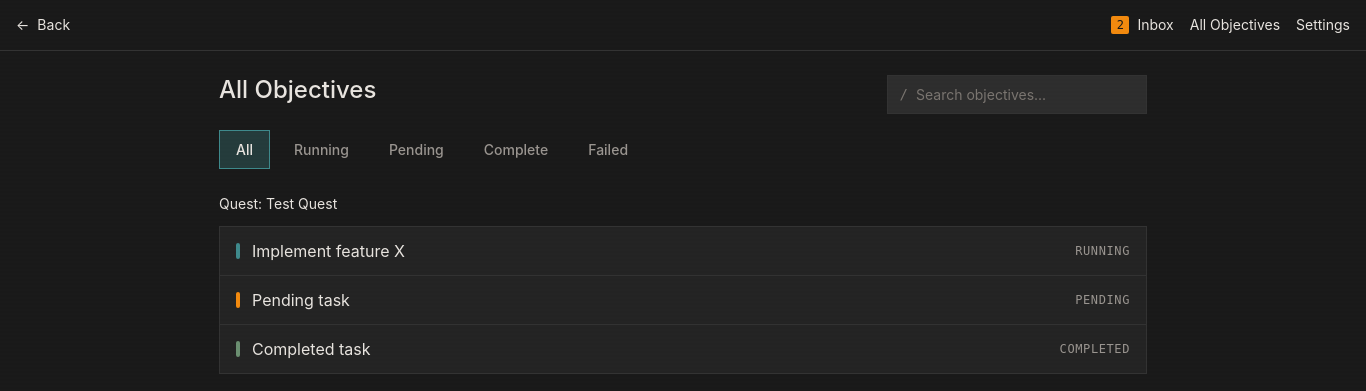
AllObjectives › filtering › shows empty state when filter has no matches
Expected: the text "Implement feature X" is shown, 252,241 -> 405,261
Click the button "Failed" at coordinates (608, 150), box 572,130 -> 644,169
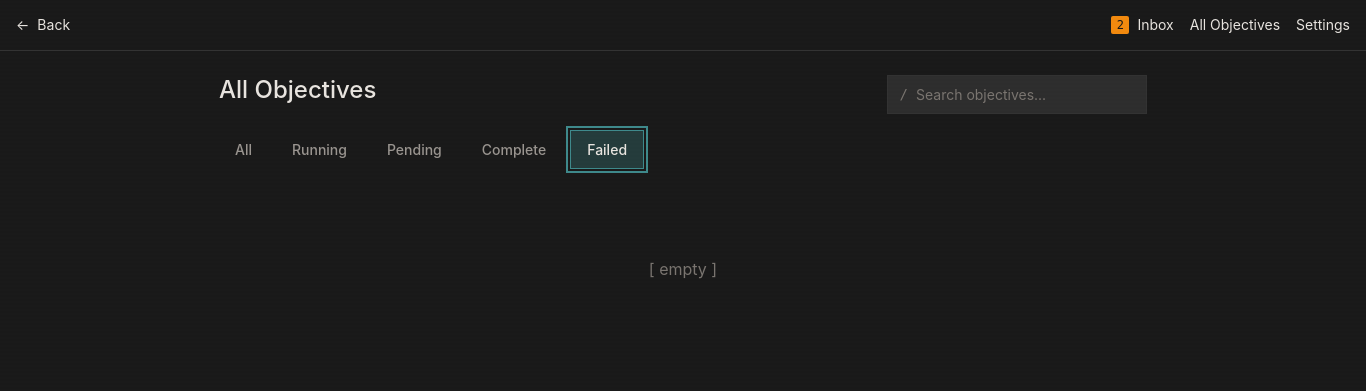
Expected: the text "[ empty ]" is shown, 649,259 -> 717,279
